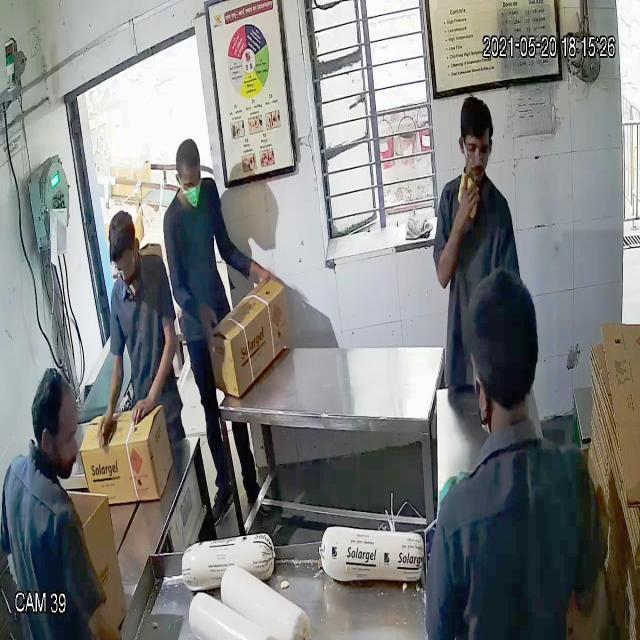glasses: (456, 132, 494, 166)
